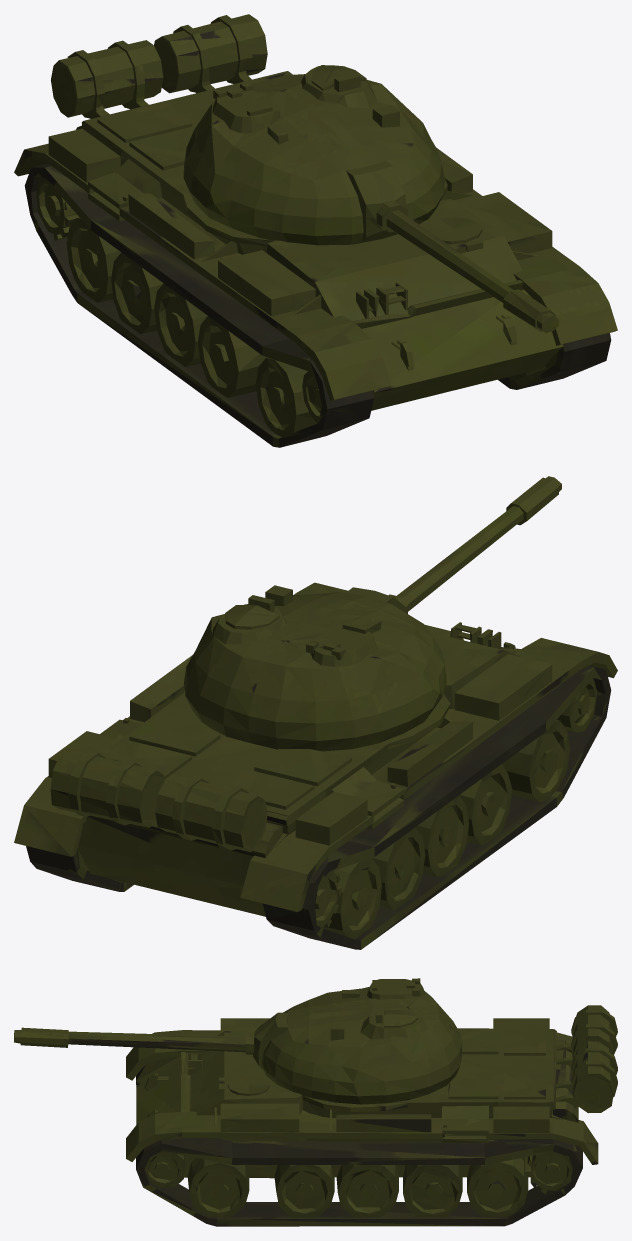
The model's file is golan73_syrian_armor_0.glb.
The picture shows the model from 3 angles, top to bottom: view 1: azimuth 30°, elevation 25°; view 2: azimuth 150°, elevation 25°; view 3: azimuth 270°, elevation 25°; orthographic projection. The views are drawn at different scales.
Visible parts, largest first — view 1: geometry_0; view 2: geometry_0; view 3: geometry_0.
Boxes of the visible parts, left/top/right/bottom form: geometry_0: left=14, top=14, right=617, bottom=447; geometry_0: left=14, top=476, right=617, bottom=949; geometry_0: left=14, top=978, right=617, bottom=1226.
Size of the model in its own units: 0.5175 by 0.423 by 1.29.
Materials: 1 (1 with a texture image).
